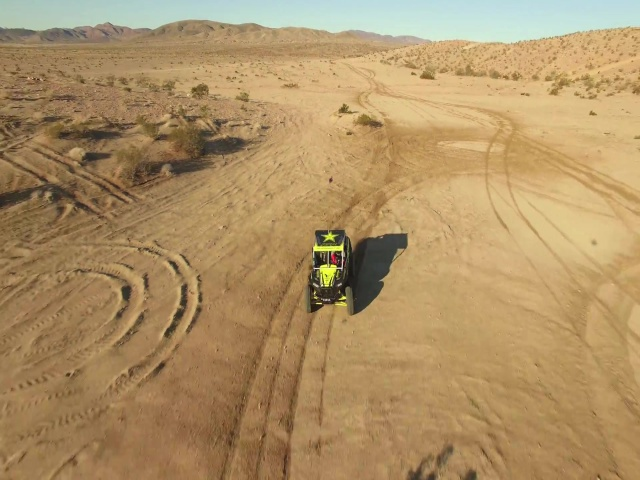vehicle: (305, 230, 356, 317)
